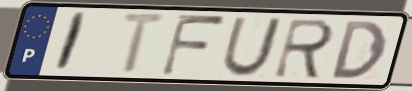D: (330, 19, 389, 81)
F: (158, 12, 229, 79)
I: (51, 10, 91, 73)
R: (270, 17, 338, 81)
T: (117, 11, 171, 77)
U: (218, 16, 285, 79)
